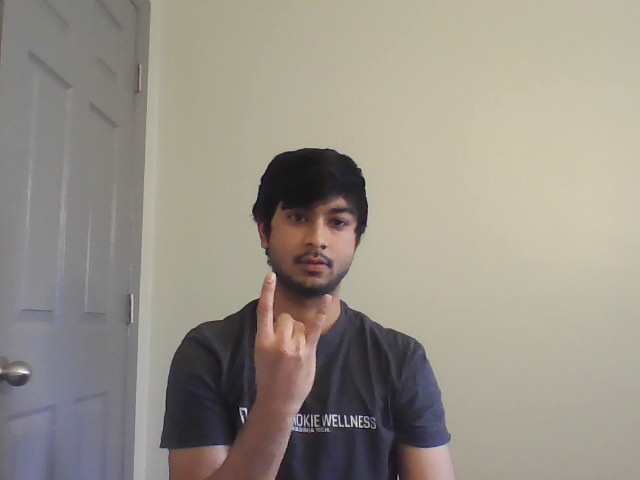help: (247, 268, 335, 419)
